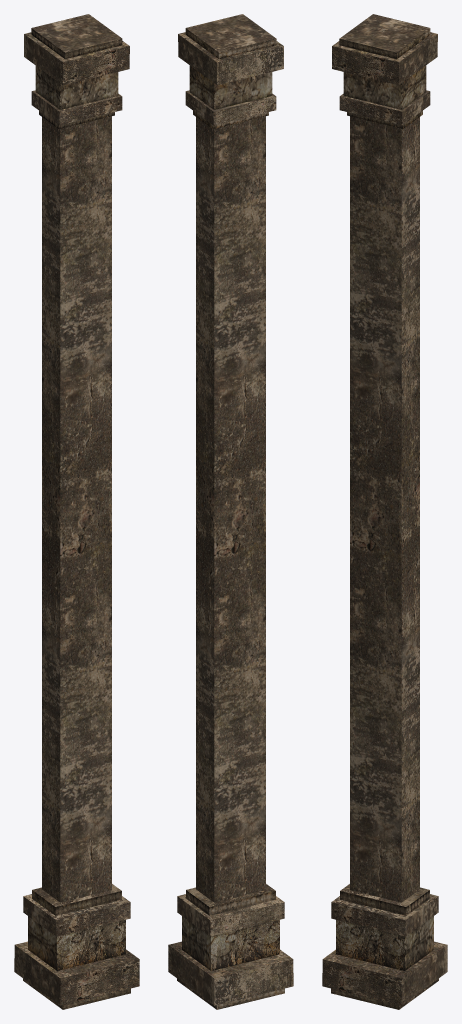
Rendered from materials_5_pillar_long_22.fbx.
3 views of the same model, side by side, from view 1: azimuth 30°, elevation 25°; view 2: azimuth 210°, elevation 25°; view 3: azimuth 330°, elevation 25° (orthographic).
Visible parts, largest first — view 1: materials_5_pillar_long_22; view 2: materials_5_pillar_long_22; view 3: materials_5_pillar_long_22.
Boxes of the visible parts, x1,y1,x2,y2 form: materials_5_pillar_long_22: [14, 14, 139, 1009]; materials_5_pillar_long_22: [168, 14, 293, 1009]; materials_5_pillar_long_22: [322, 14, 447, 1009].
Bounding box in the file's own units: 20.83 × 240 × 20.96.
